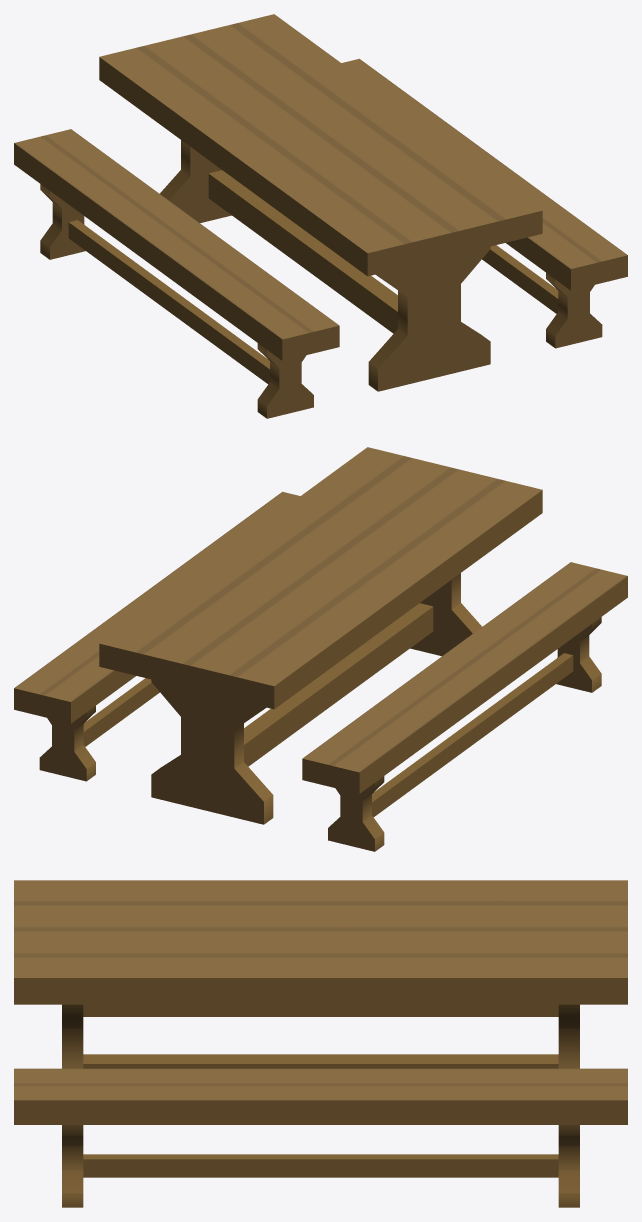
Rendered from SM_Prop_Table_05.glb.
The picture shows the model from 3 angles, top to bottom: view 1: azimuth 30°, elevation 25°; view 2: azimuth 150°, elevation 25°; view 3: azimuth 270°, elevation 25°; orthographic projection. The views are drawn at different scales.
Visible parts, largest first — view 1: SM_Prop_Table_05; view 2: SM_Prop_Table_05; view 3: SM_Prop_Table_05.
Part boxes in pixels (x1,y1,x2,y2): SM_Prop_Table_05: (14, 14, 627, 418); SM_Prop_Table_05: (14, 447, 627, 851); SM_Prop_Table_05: (14, 880, 627, 1207).
Bounding box in the file's own units: 0.0298 × 0.0133 × 0.0401.
Materials: 1 (1 with a texture image).
